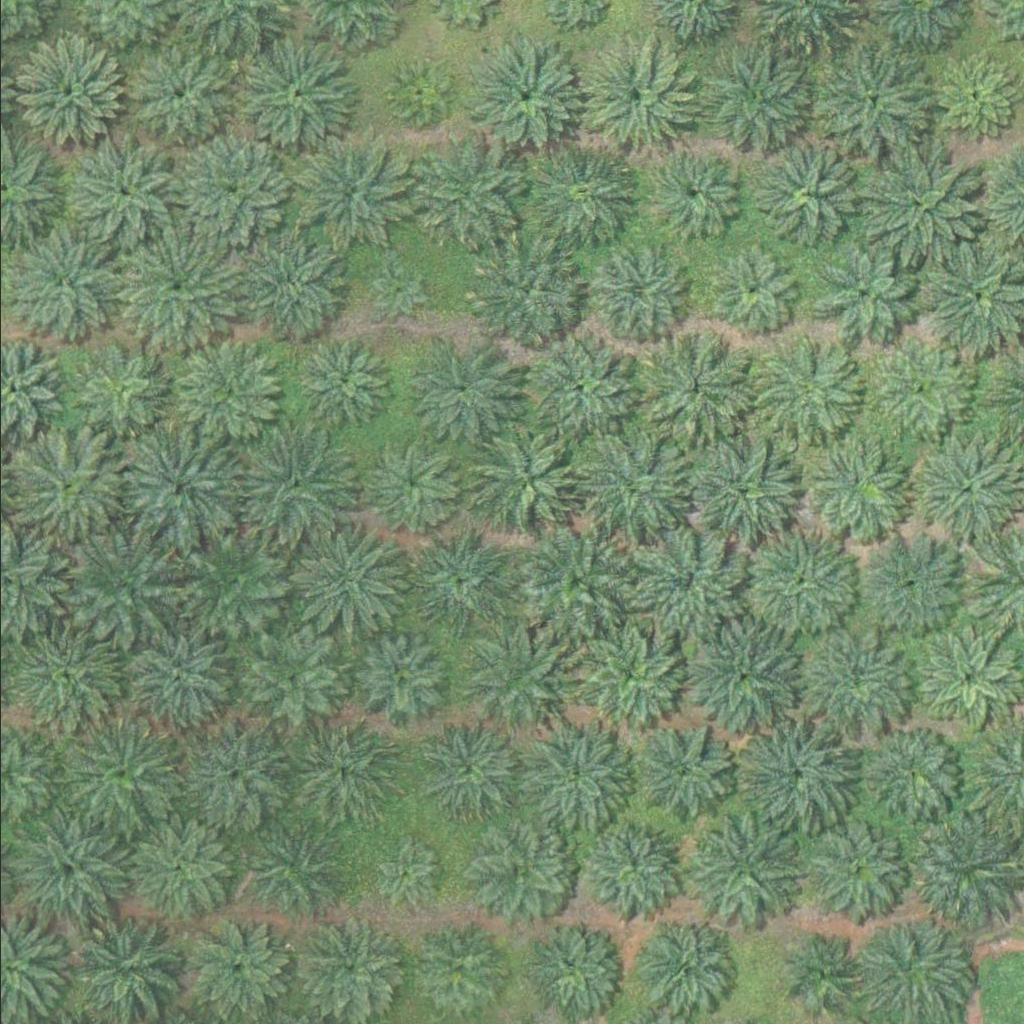Kelapa_Sawit: (179, 523, 293, 636), (243, 429, 357, 542), (399, 335, 513, 448), (69, 530, 183, 643), (575, 39, 688, 152), (747, 336, 860, 449), (638, 328, 751, 441), (854, 525, 967, 638), (800, 628, 913, 741), (690, 620, 803, 733), (515, 721, 628, 834), (569, 622, 682, 735), (570, 433, 683, 546), (471, 424, 584, 537), (122, 429, 235, 542), (519, 333, 632, 446), (298, 132, 411, 245), (175, 136, 288, 249), (464, 41, 577, 154), (238, 38, 351, 151), (8, 38, 121, 151), (63, 131, 176, 244), (9, 430, 122, 543), (71, 719, 184, 832), (11, 816, 124, 929), (813, 47, 927, 159), (701, 44, 815, 156), (633, 141, 747, 253), (799, 812, 913, 924), (118, 618, 232, 730), (464, 235, 578, 347), (521, 138, 635, 250), (10, 626, 124, 738), (864, 148, 977, 260), (751, 142, 864, 254), (907, 431, 1020, 543), (683, 436, 796, 548), (740, 524, 853, 636), (628, 525, 741, 637), (747, 716, 860, 828), (682, 814, 795, 926), (174, 717, 287, 829), (458, 624, 571, 736), (518, 527, 631, 639), (406, 523, 519, 635), (294, 525, 407, 637), (167, 336, 280, 448), (233, 230, 346, 342), (120, 232, 233, 344), (409, 141, 522, 253), (119, 38, 232, 150), (2, 226, 115, 338), (814, 241, 915, 341), (868, 337, 969, 437), (808, 437, 909, 537), (921, 627, 1022, 727), (630, 722, 731, 822), (527, 919, 628, 1019), (408, 923, 509, 1023), (300, 915, 401, 1015), (189, 915, 290, 1015), (582, 819, 683, 919), (470, 820, 571, 920), (244, 822, 345, 922), (128, 820, 229, 920), (421, 720, 522, 820), (288, 717, 389, 817), (344, 630, 445, 730), (241, 630, 342, 730), (74, 341, 175, 441), (586, 244, 686, 344), (865, 723, 965, 823), (632, 912, 732, 1012), (363, 434, 463, 534), (294, 332, 394, 432), (930, 53, 1018, 141), (708, 250, 796, 337), (787, 935, 863, 1010), (364, 833, 439, 908), (387, 62, 450, 125), (367, 259, 430, 321)
